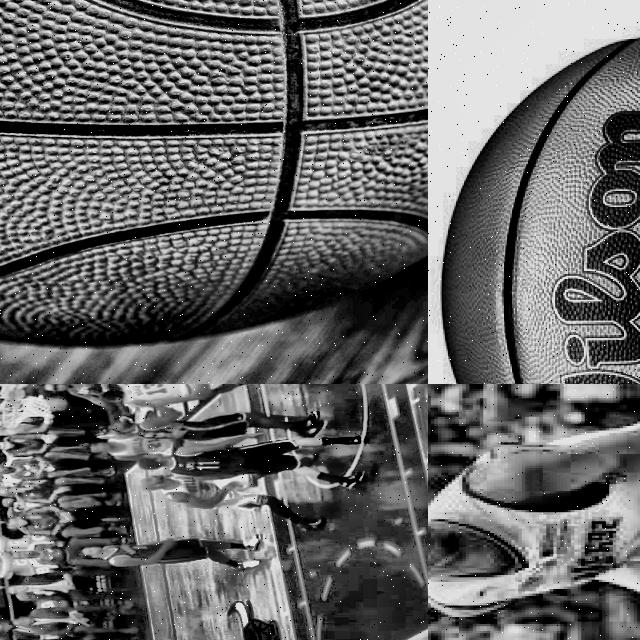Basketball: (443, 34, 640, 384), (44, 396, 69, 410)
